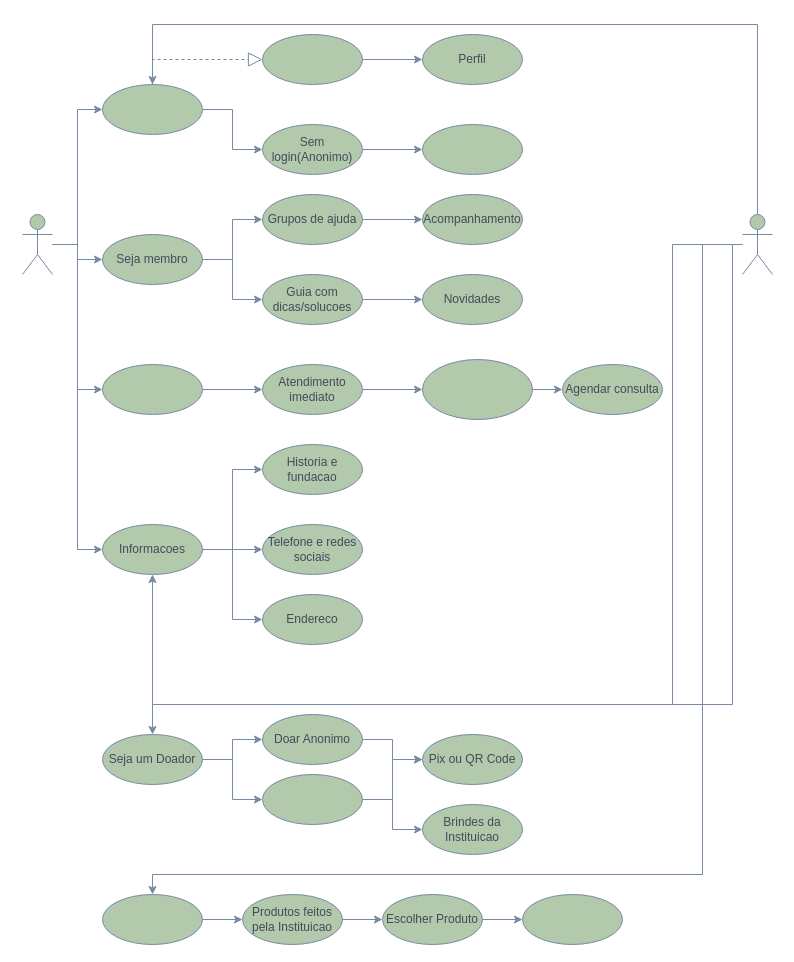
Image size: 794x962. Some labels were removed from this diagram. The centre of each missing label's shape, as x and y in pixels:
"Buscar ajuda" belongs at point 152,389.
"Doador" belongs at point 757,244.
"Fazer/Criar Login" belongs at point 152,109.
"Informar seu contato(Telefone ou redes sociais)" belongs at point 477,389.
"Marketing Place" belongs at point 152,919.
"Pagamento do Produto" belongs at point 572,919.
"Pagina inicial" belongs at point 472,149.
"Seja Parceiro (Mensal)" belongs at point 312,799.
"Usuario" belongs at point 37,244.
"Verificar usuario/senha" belongs at point 312,59.
